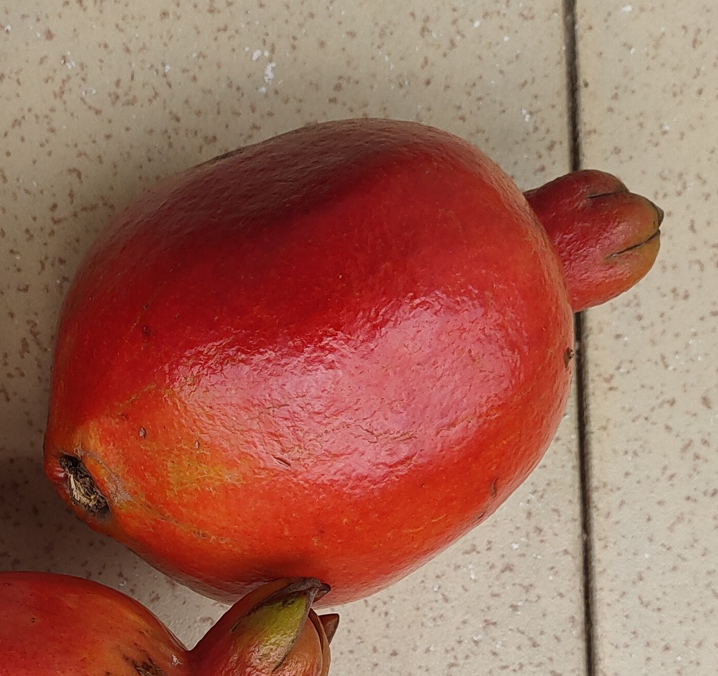pomegranate_A: (43, 117, 665, 610)
